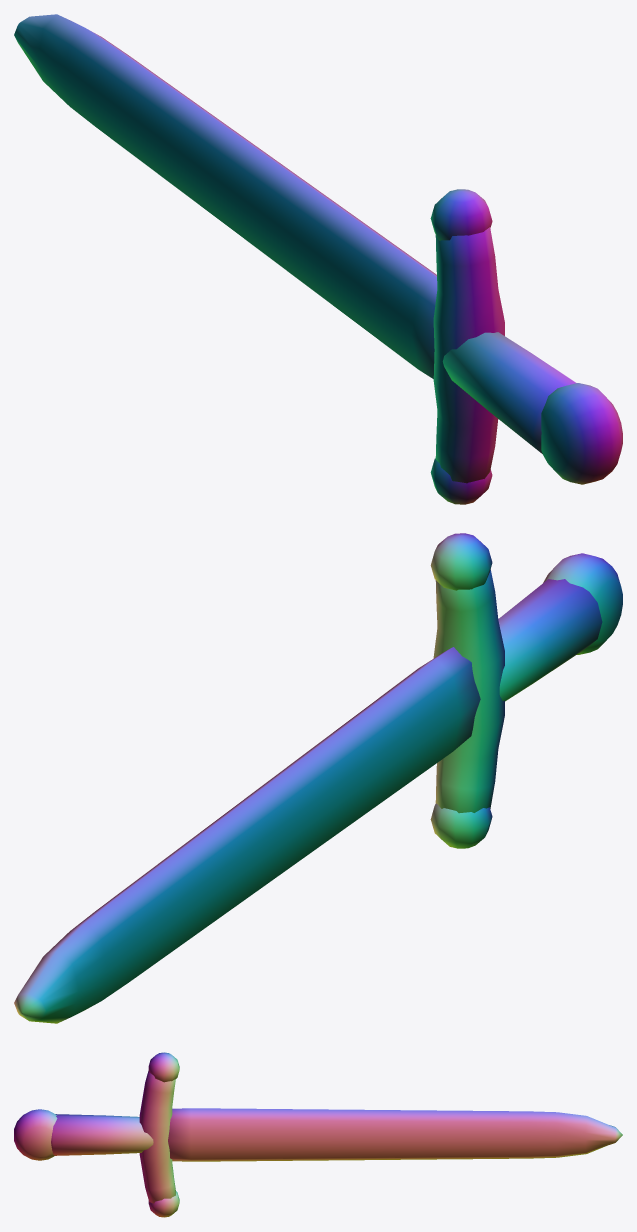
The model's file is SM_Weapon_Sword.fbx.
The picture shows the model from 3 angles, top to bottom: view 1: azimuth 30°, elevation 25°; view 2: azimuth 150°, elevation 25°; view 3: azimuth 270°, elevation 25°; orthographic projection. The views are drawn at different scales.
Visible parts, largest first — view 1: SM_Weapon_Sword; view 2: SM_Weapon_Sword; view 3: SM_Weapon_Sword.
Part boxes in pixels (left/top/right/bottom): SM_Weapon_Sword: left=14, top=14, right=622, bottom=504; SM_Weapon_Sword: left=14, top=533, right=622, bottom=1023; SM_Weapon_Sword: left=14, top=1052, right=622, bottom=1217.
Size of the model in its own units: 0.0712 by 0.303 by 1.03.
